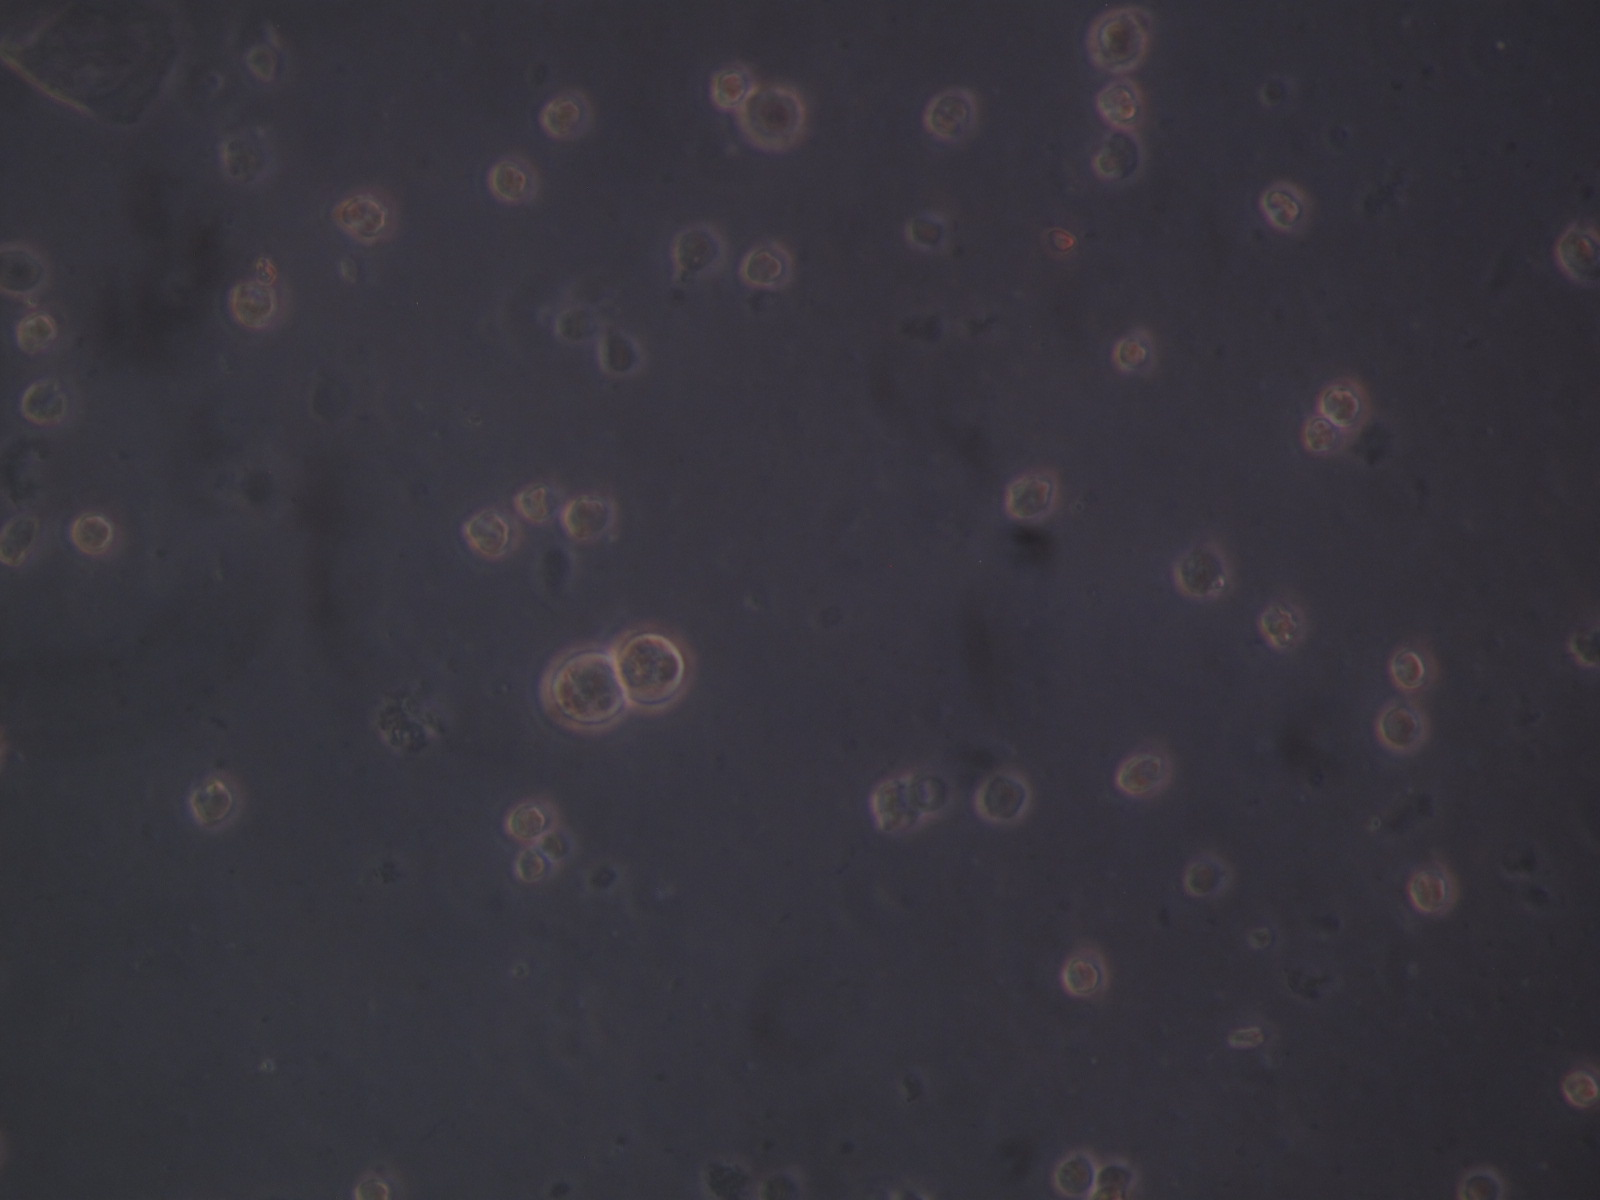hemo: (741, 84, 806, 149), (1089, 10, 1148, 74), (191, 771, 246, 832), (976, 768, 1032, 822), (488, 149, 538, 207), (1175, 545, 1228, 599), (1319, 377, 1369, 432), (331, 194, 387, 245), (1, 239, 47, 297), (925, 88, 978, 137), (1008, 468, 1057, 521), (673, 224, 726, 274), (1099, 127, 1144, 184), (873, 776, 918, 832), (1556, 226, 1600, 282), (1378, 698, 1426, 750), (464, 507, 511, 558), (1096, 76, 1143, 129), (1052, 1145, 1099, 1197), (504, 795, 559, 839), (1411, 862, 1459, 913), (16, 377, 67, 424), (1117, 751, 1172, 794), (229, 277, 276, 326), (740, 243, 791, 287), (596, 334, 646, 378), (1112, 328, 1158, 376), (563, 495, 609, 543), (1065, 947, 1109, 996), (540, 92, 587, 137), (905, 209, 949, 255), (1262, 180, 1303, 228), (71, 511, 113, 555), (1391, 644, 1427, 691), (14, 313, 57, 352), (1264, 603, 1300, 647), (1184, 858, 1226, 896), (1561, 1066, 1597, 1109), (1454, 1168, 1503, 1200), (1099, 1160, 1136, 1200), (1305, 416, 1342, 456), (711, 68, 746, 110), (517, 485, 551, 522), (515, 850, 551, 884), (540, 829, 573, 863)
